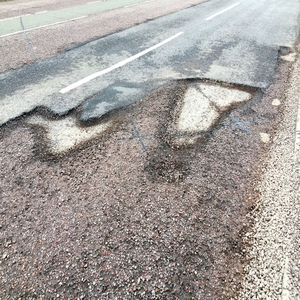pothole: (170, 76, 263, 153), (22, 101, 116, 166)
